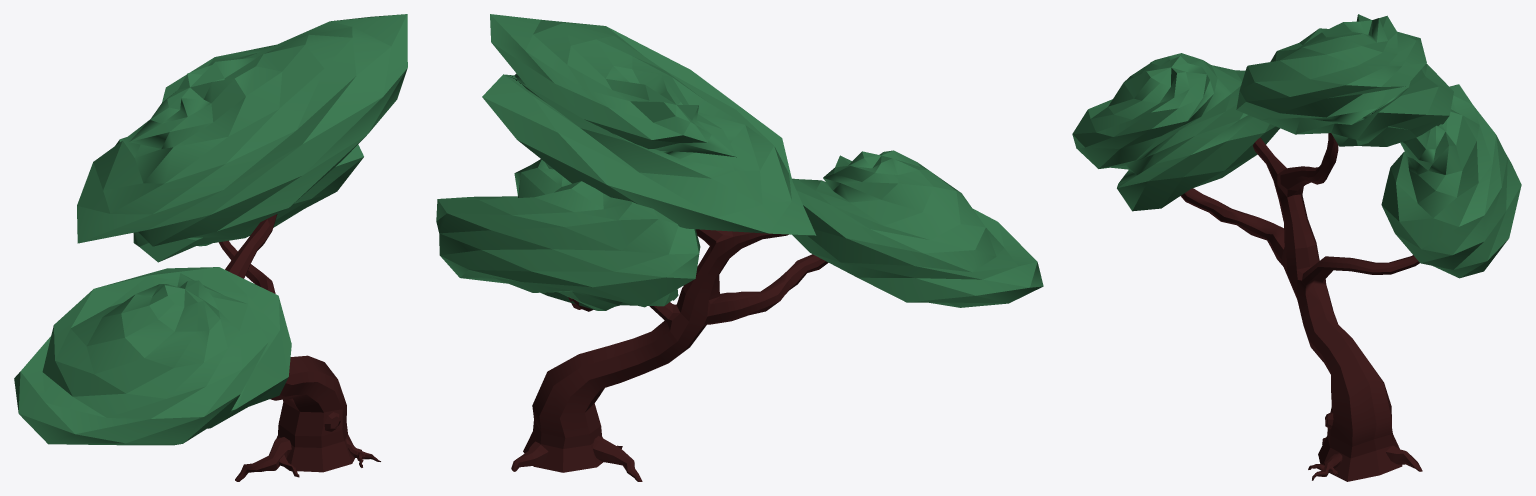
The model's file is 01_treeF_01.fbx.
3 renders of one model, left to right at view 1: azimuth 30°, elevation 25°; view 2: azimuth 150°, elevation 25°; view 3: azimuth 270°, elevation 25°, orthographic. The views are drawn at different scales.
Parts seen in each view (by area): view 1: _treeCopaF_01, _treeTroncoF_01; view 2: _treeCopaF_01, _treeTroncoF_01; view 3: _treeCopaF_01, _treeTroncoF_01.
Part boxes in pixels (bbox=[...]): _treeCopaF_01: bbox=[14, 14, 407, 445]; _treeTroncoF_01: bbox=[219, 214, 380, 481]; _treeCopaF_01: bbox=[436, 14, 1043, 310]; _treeTroncoF_01: bbox=[511, 229, 828, 481]; _treeCopaF_01: bbox=[1072, 14, 1521, 278]; _treeTroncoF_01: bbox=[1181, 133, 1422, 481].
Size of the model in its own units: 1430 by 1257 by 1202.
